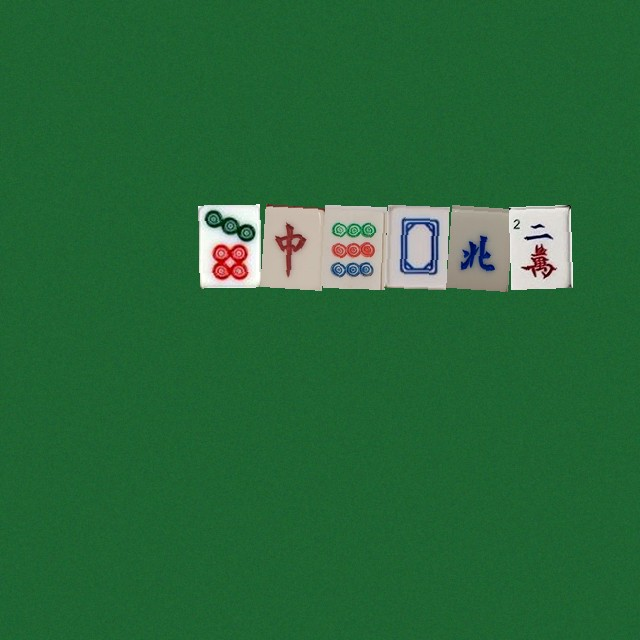tile: (198, 204, 260, 287), (260, 204, 322, 287), (322, 204, 384, 287), (384, 204, 446, 287), (446, 204, 508, 287), (508, 204, 570, 287)
